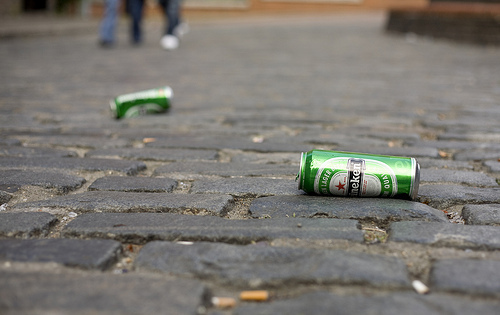litter: (296, 149, 419, 200), (108, 85, 172, 116)
